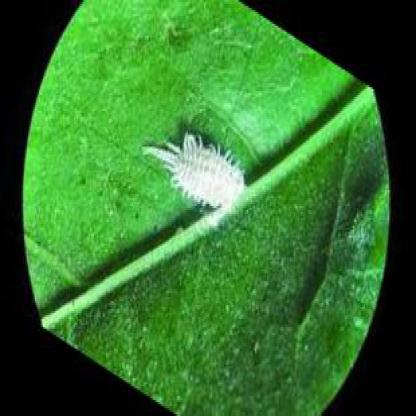mealy bug: (146, 139, 243, 208)
